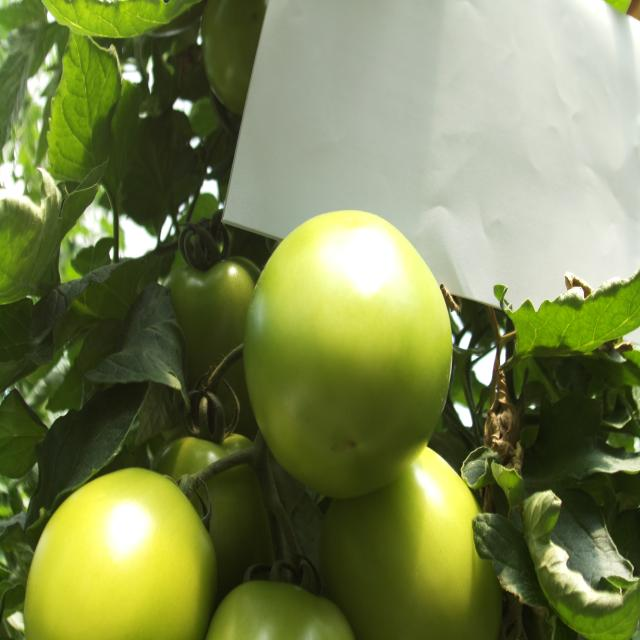unripe tomato: (224, 188, 469, 506), (11, 387, 300, 640)
